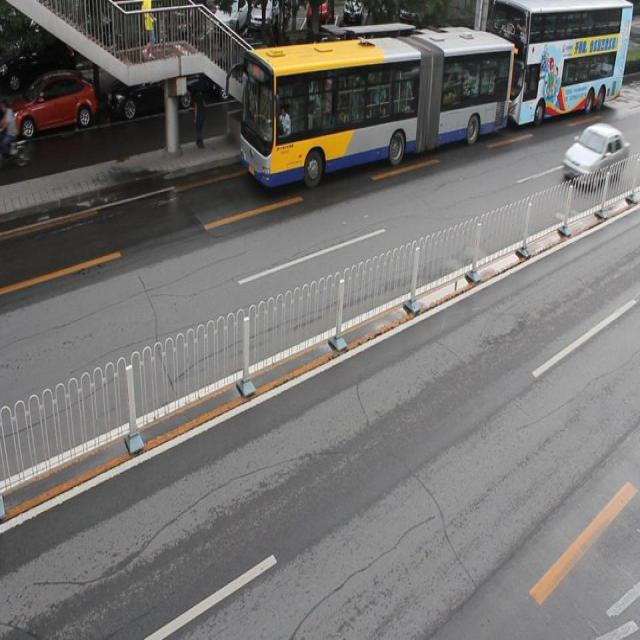car: (0, 71, 96, 138), (104, 57, 197, 115), (206, 38, 277, 104), (560, 120, 625, 189), (292, 42, 363, 98)
van: (242, 26, 510, 183), (488, 1, 630, 126)
